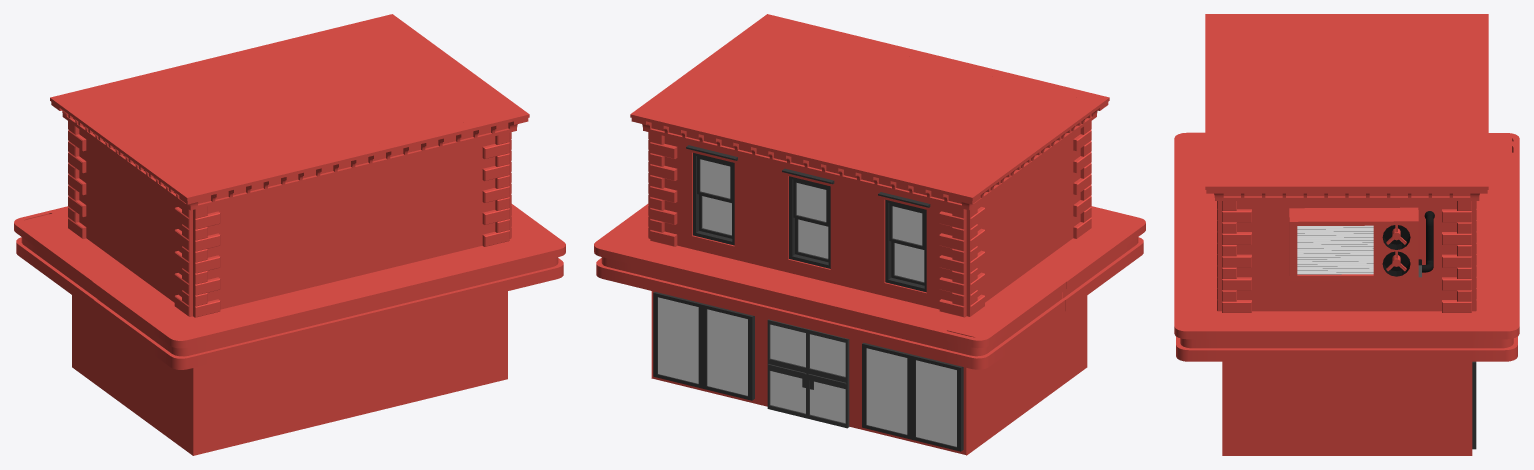
The model's file is Virtu_Store.fbx.
3 views of the same model, side by side, from view 1: azimuth 30°, elevation 25°; view 2: azimuth 150°, elevation 25°; view 3: azimuth 270°, elevation 25° (orthographic). The views are drawn at different scales.
Parts seen in each view (by area): view 1: BrickWall_Window_V2.R.087, BrickWallThin_3_L.012, BrickWallLight_Window_V1_1.113, Metal_Panel_V1_3.027, Metal_Panel_V1_4.080, Metal_Panel_V1_1.025, BrickWallLight_Window_V1_1.114, BrickWallLight_Window_V1_1.112, BrickWallLight_Window_V1_1.110, BrickWallLight_Window_V1_1.111, Metal_Panel_V1_3.024, Metal_Panel_V1_3.023 (+12 smaller); view 2: BrickWall_Window_V2.R.087, BrickWallThin_3_L.012, BrickWall_Window_V1_2.007, BrickWall_Window_V1_1.008, BrickWall_Window_V1_3.006, BrickWallLight_Window_V1_1.111, BrickWallLight_Window_V1_1.110, Metal_Panel_V1_3.023, Window_Single.008, Window_Single.010, Metal_Panel_V1_3.024, Window_Single.007 (+20 smaller); view 3: BrickWall_Window_V2.R.087, BrickWallThin_3_L.012, Metal_Panel_V1_3.025, Metal_Panel_V1_3.026, AC MODEL.001, BrickWallLight_Window_V1_1.109, BrickWallLight_Window_V1_1.108, Metal_Panel_V1_5.062, Metal_Panel_V1_5.063, BrickWall_Corner_Panel_V1_.093, BrickWall_Corner_Panel_V1_.094, Metal_Panel_Corner.Rounded.004 (+10 smaller).
Part boxes in pixels (x1=…): BrickWall_Window_V2.R.087: x1=50, y1=14, x2=529, y2=210; BrickWallThin_3_L.012: x1=18, y1=208, x2=558, y2=339; BrickWallLight_Window_V1_1.113: x1=298, y1=158, x2=402, y2=290; Metal_Panel_V1_3.027: x1=403, y1=291, x2=507, y2=404; Metal_Panel_V1_4.080: x1=193, y1=342, x2=297, y2=455; Metal_Panel_V1_1.025: x1=298, y1=317, x2=402, y2=430; BrickWallLight_Window_V1_1.114: x1=403, y1=136, x2=495, y2=264; BrickWallLight_Window_V1_1.112: x1=207, y1=184, x2=297, y2=309; BrickWallLight_Window_V1_1.110: x1=79, y1=129, x2=132, y2=271; BrickWallLight_Window_V1_1.111: x1=132, y1=168, x2=182, y2=302; Metal_Panel_V1_3.024: x1=132, y1=340, x2=193, y2=455; Metal_Panel_V1_3.023: x1=72, y1=295, x2=132, y2=411; BrickWall_Window_V2.R.087: x1=630, y1=14, x2=1109, y2=210; BrickWallThin_3_L.012: x1=597, y1=208, x2=1142, y2=338; BrickWall_Window_V1_2.007: x1=757, y1=158, x2=861, y2=290; BrickWall_Window_V1_1.008: x1=664, y1=136, x2=756, y2=264; BrickWall_Window_V1_3.006: x1=862, y1=184, x2=952, y2=309; BrickWallLight_Window_V1_1.111: x1=1027, y1=129, x2=1080, y2=271; BrickWallLight_Window_V1_1.110: x1=977, y1=168, x2=1027, y2=302; Metal_Panel_V1_3.023: x1=966, y1=340, x2=1026, y2=455; Window_Single.008: x1=911, y1=355, x2=963, y2=451; Window_Single.010: x1=702, y1=304, x2=754, y2=400; Metal_Panel_V1_3.024: x1=1026, y1=296, x2=1087, y2=411; Window_Single.007: x1=862, y1=342, x2=912, y2=439; BrickWall_Window_V2.R.087: x1=1205, y1=14, x2=1488, y2=200; BrickWallThin_3_L.012: x1=1180, y1=135, x2=1513, y2=328; Metal_Panel_V1_3.025: x1=1347, y1=361, x2=1472, y2=455; Metal_Panel_V1_3.026: x1=1222, y1=361, x2=1347, y2=455; AC MODEL.001: x1=1289, y1=207, x2=1434, y2=280; BrickWallLight_Window_V1_1.109: x1=1237, y1=201, x2=1346, y2=311; BrickWallLight_Window_V1_1.108: x1=1347, y1=201, x2=1456, y2=311; Metal_Panel_V1_5.062: x1=1222, y1=329, x2=1346, y2=361; Metal_Panel_V1_5.063: x1=1347, y1=329, x2=1471, y2=361; BrickWall_Corner_Panel_V1_.093: x1=1222, y1=201, x2=1251, y2=312; BrickWall_Corner_Panel_V1_.094: x1=1442, y1=201, x2=1471, y2=312; Metal_Panel_Corner.Rounded.004: x1=1174, y1=311, x2=1221, y2=361.
Size of the model in its own units: 752 by 488 by 552.
13 materials, 1 textured.
